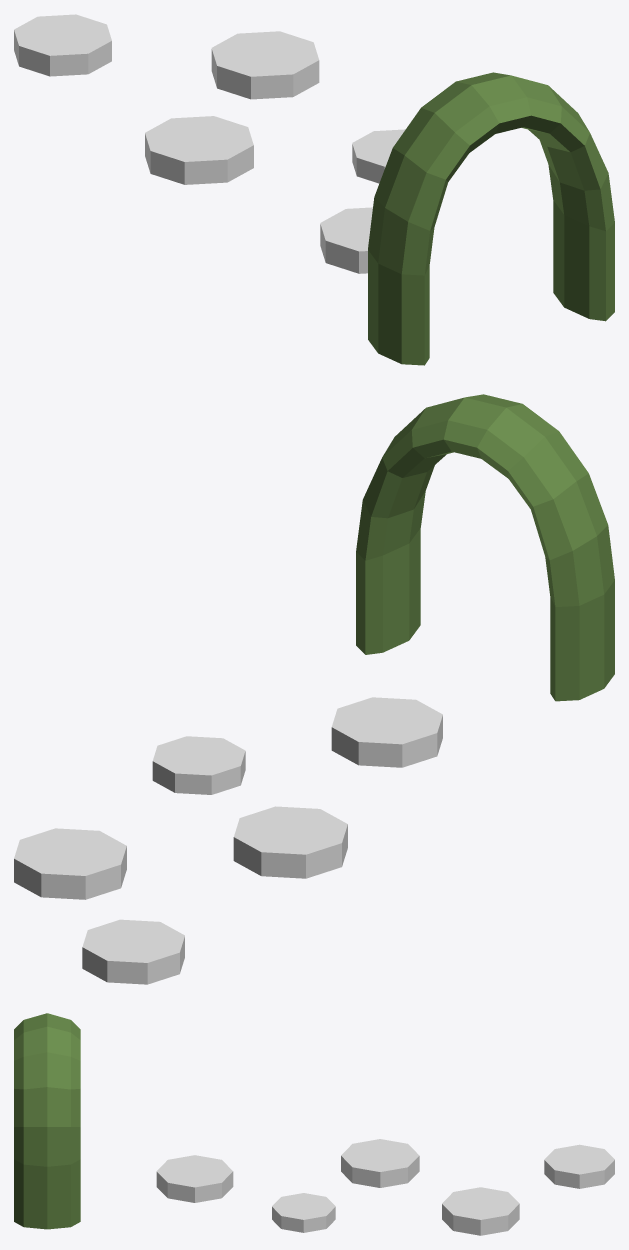
Rendered from other.fbx.
The picture shows the model from 3 angles, top to bottom: view 1: azimuth 30°, elevation 25°; view 2: azimuth 150°, elevation 25°; view 3: azimuth 270°, elevation 25°; orthographic projection. The views are drawn at different scales.
Parts seen in each view (by area): view 1: トーラス.002, 円柱.020; view 2: トーラス.002, 円柱.020; view 3: トーラス.002, 円柱.020.
Boxes of the visible parts, x1,y1,x2,y2 form: トーラス.002: (368, 72, 614, 365); 円柱.020: (14, 14, 405, 273); トーラス.002: (356, 394, 614, 701); 円柱.020: (14, 697, 442, 984); トーラス.002: (14, 1013, 80, 1229); 円柱.020: (156, 1139, 614, 1235).
Bounding box in the file's own units: 386 × 367 × 1170.
